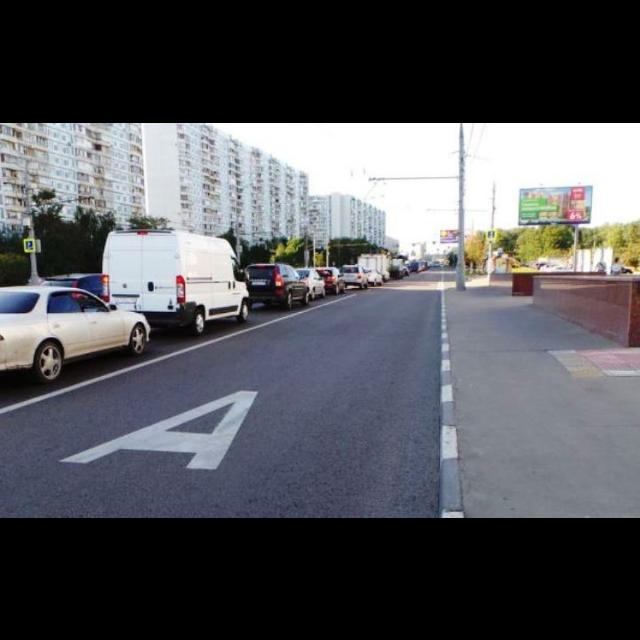road: (0, 272, 441, 517)
